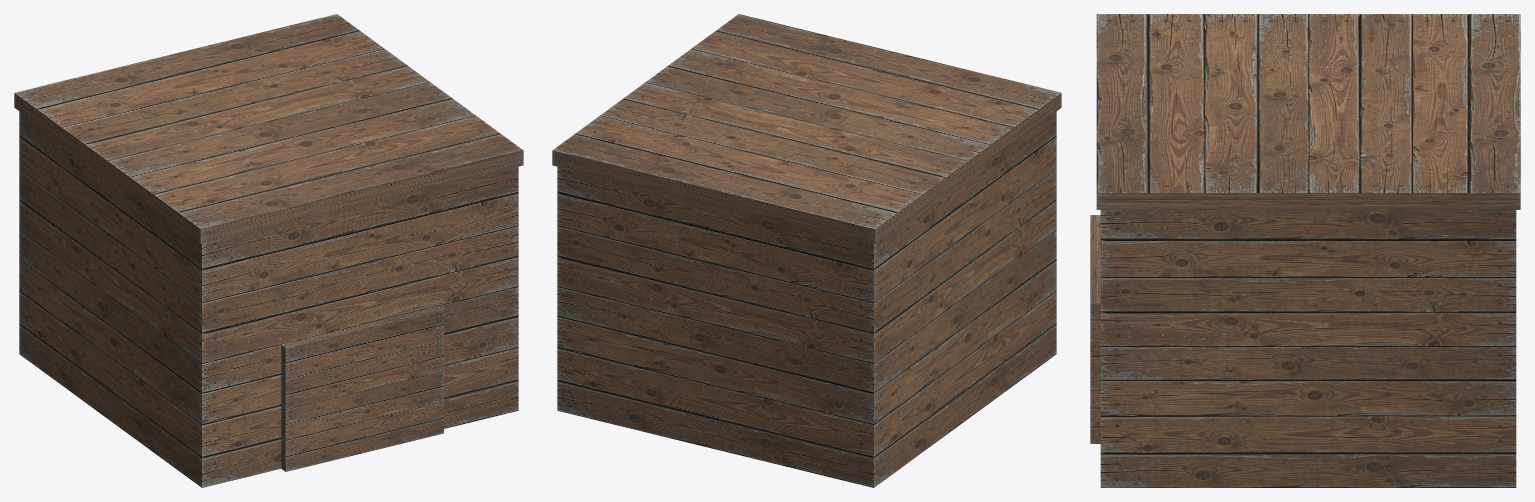
Rendered from road_layer.obj.
3 renders of one model, left to right at view 1: azimuth 30°, elevation 25°; view 2: azimuth 150°, elevation 25°; view 3: azimuth 270°, elevation 25°, orthographic. The views are drawn at different scales.
Parts seen in each view (by area): view 1: building; view 2: building; view 3: building.
Part boxes in pixels (bbox=[...]): building: bbox=[14, 14, 523, 487]; building: bbox=[552, 14, 1061, 487]; building: bbox=[1090, 14, 1520, 487].
Size of the model in its own units: 2.04 by 1.58 by 2.07.
